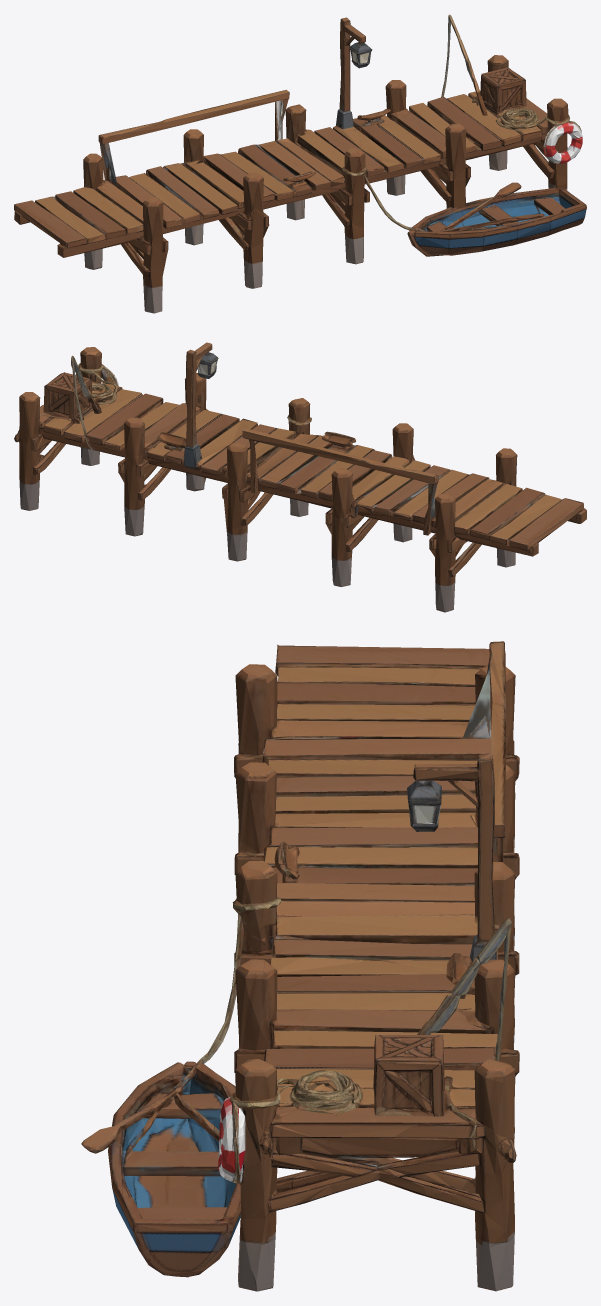
Rendered from dock.glb.
3 renders of one model, top to bottom at view 1: azimuth 30°, elevation 25°; view 2: azimuth 150°, elevation 25°; view 3: azimuth 270°, elevation 25°, orthographic. The views are drawn at different scales.
Visible parts, largest first — view 1: mesh_node; view 2: mesh_node; view 3: mesh_node.
Part boxes in pixels (box(x1,y1,x2,y2)): mesh_node: box(14, 14, 586, 313); mesh_node: box(14, 342, 586, 612); mesh_node: box(81, 641, 519, 1291).
Bounding box in the file's own units: 1.9 × 0.6727 × 0.7107.
Materials: 1 (1 with a texture image).
